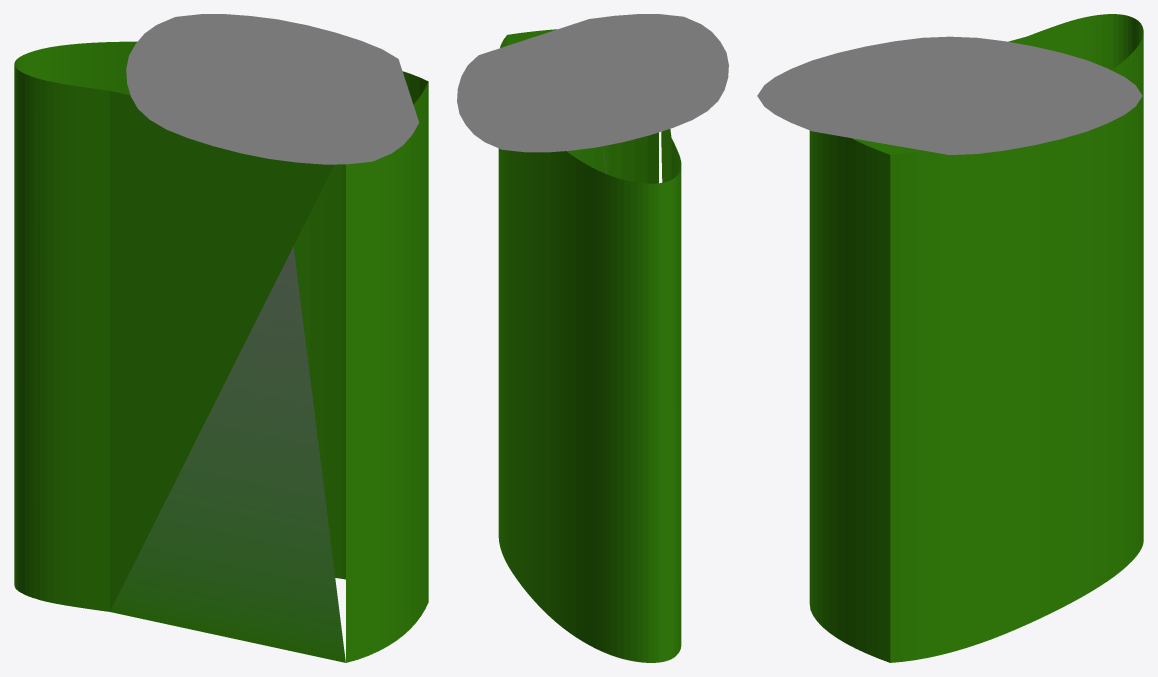
The model's file is Mon.obj.
The picture shows the model from 3 angles, left to right: view 1: azimuth 30°, elevation 25°; view 2: azimuth 150°, elevation 25°; view 3: azimuth 270°, elevation 25°; orthographic projection. The views are drawn at different scales.
Size of the model in its own units: 1.19 by 2 by 1.38.
